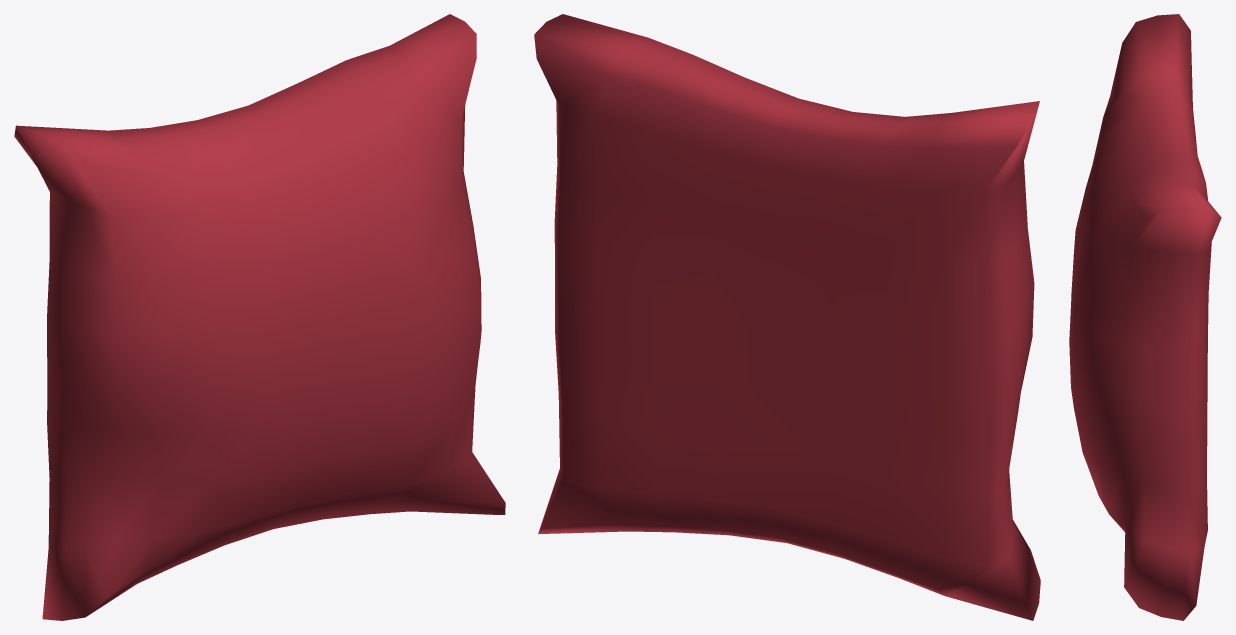
Rendered from geo_Pillow.fbx.
The picture shows the model from 3 angles, left to right: view 1: azimuth 30°, elevation 25°; view 2: azimuth 150°, elevation 25°; view 3: azimuth 270°, elevation 25°; orthographic projection. The views are drawn at different scales.
Visible parts, largest first — view 1: pCube42; view 2: pCube42; view 3: pCube42.
Part boxes in pixels (x1,y1,x2,y2): pCube42: (14, 14, 505, 620); pCube42: (534, 14, 1040, 620); pCube42: (1069, 14, 1221, 620).
Size of the model in its own units: 41.48 by 42.66 by 14.06.
1 material, 1 textured.
